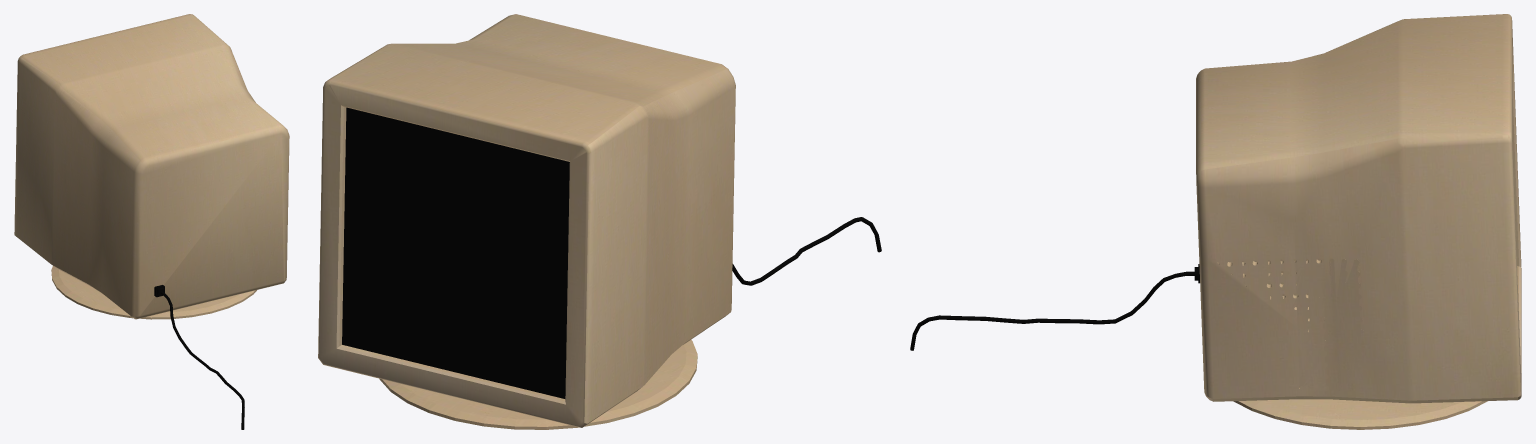
File: Crt.fbx
The picture shows the model from 3 angles, left to right: view 1: azimuth 30°, elevation 25°; view 2: azimuth 150°, elevation 25°; view 3: azimuth 270°, elevation 25°; orthographic projection. The views are drawn at different scales.
Parts seen in each view (by area): view 1: Cube, Cylinder, Cube.001; view 2: Cube, Cylinder, Cube.001; view 3: Cube, Cylinder, Cube.001.
Boxes of the visible parts, x1,y1,x2,y2 form: Cube: [14, 14, 289, 319]; Cylinder: [51, 266, 256, 319]; Cube.001: [154, 285, 244, 429]; Cube: [318, 14, 735, 427]; Cylinder: [379, 339, 697, 429]; Cube.001: [732, 217, 881, 285]; Cube: [1196, 14, 1521, 403]; Cylinder: [1233, 399, 1487, 429]; Cube.001: [910, 264, 1199, 350].
Bounding box in the file's own units: 415 × 487 × 826.
3 materials, 1 textured.
